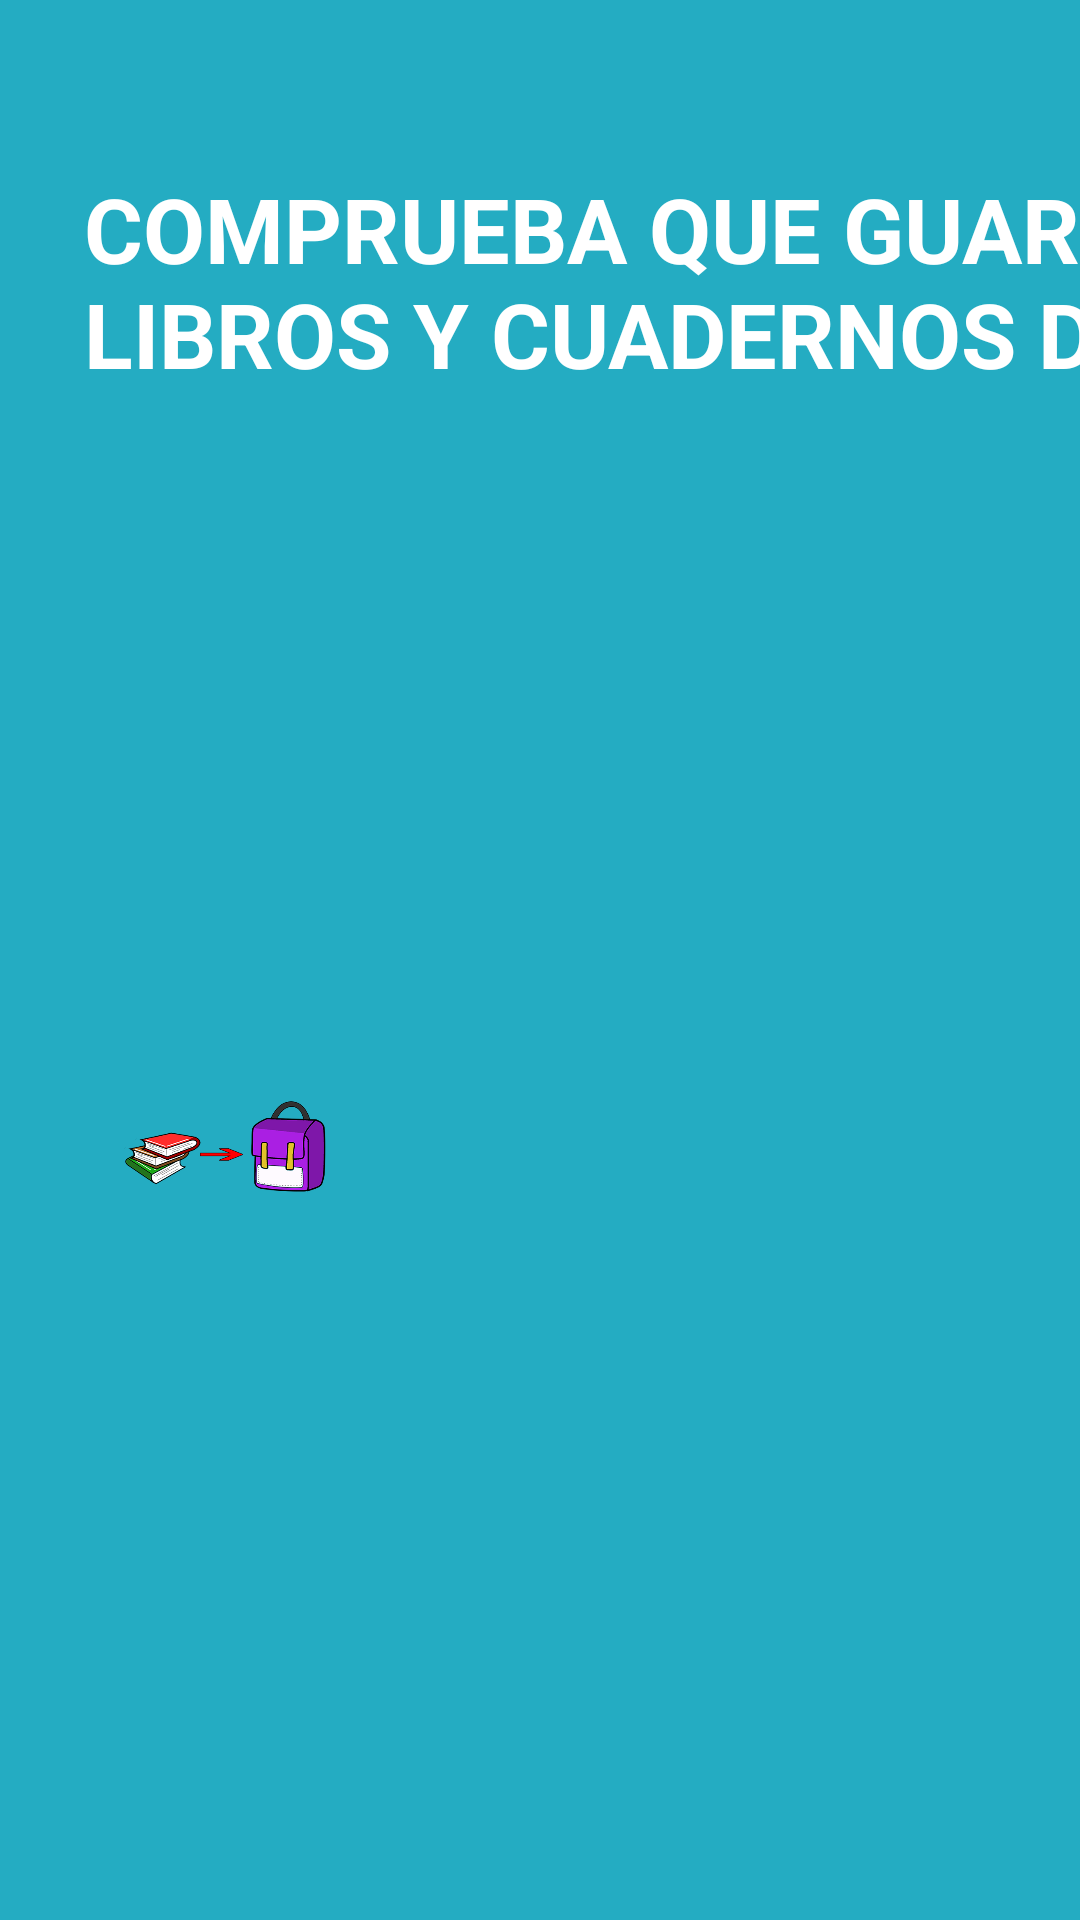

Icon bounding boxes for this 1080px×1920px phone screenshot, format [x1=x1, y1=y1, x2=x2, y2=y2]:
librosmochila: [x1=125, y1=1101, x2=326, y2=1192]
